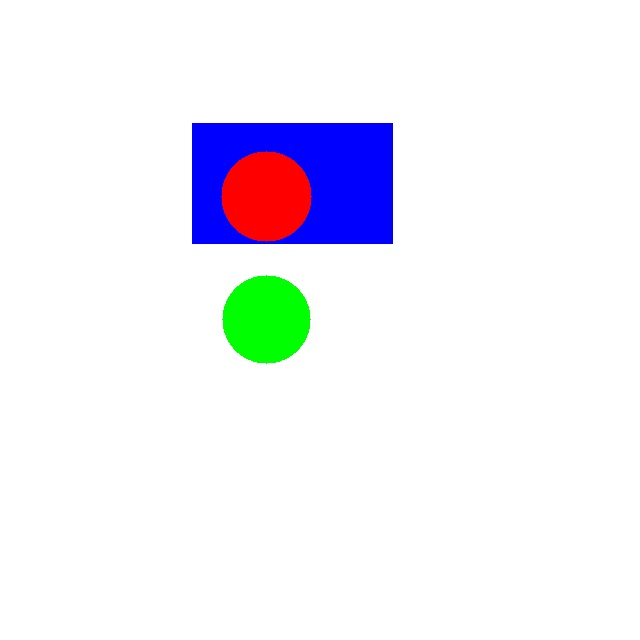cartao: (192, 123, 392, 243)
rosca_externa: (222, 275, 310, 363)
rosca_interna: (221, 151, 311, 241)
